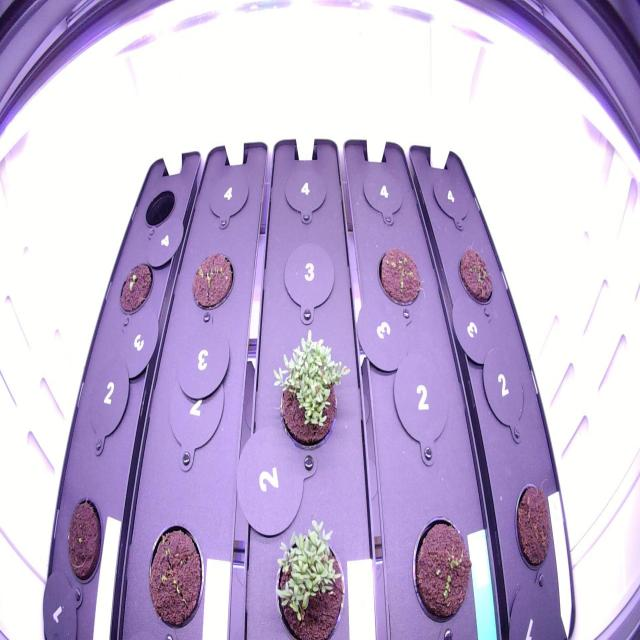empty_pod: (385, 348, 456, 456), (160, 355, 228, 457), (472, 347, 536, 447), (278, 232, 339, 328), (75, 349, 134, 448), (356, 160, 408, 228), (280, 158, 330, 228), (204, 156, 253, 226), (424, 163, 472, 234), (139, 183, 178, 236)
germination: (262, 322, 358, 459), (263, 509, 354, 637), (404, 508, 478, 630), (140, 516, 210, 634), (372, 238, 428, 313), (183, 242, 238, 316), (452, 239, 497, 311), (113, 254, 158, 322)
pod: (509, 476, 559, 576), (63, 490, 106, 590)
